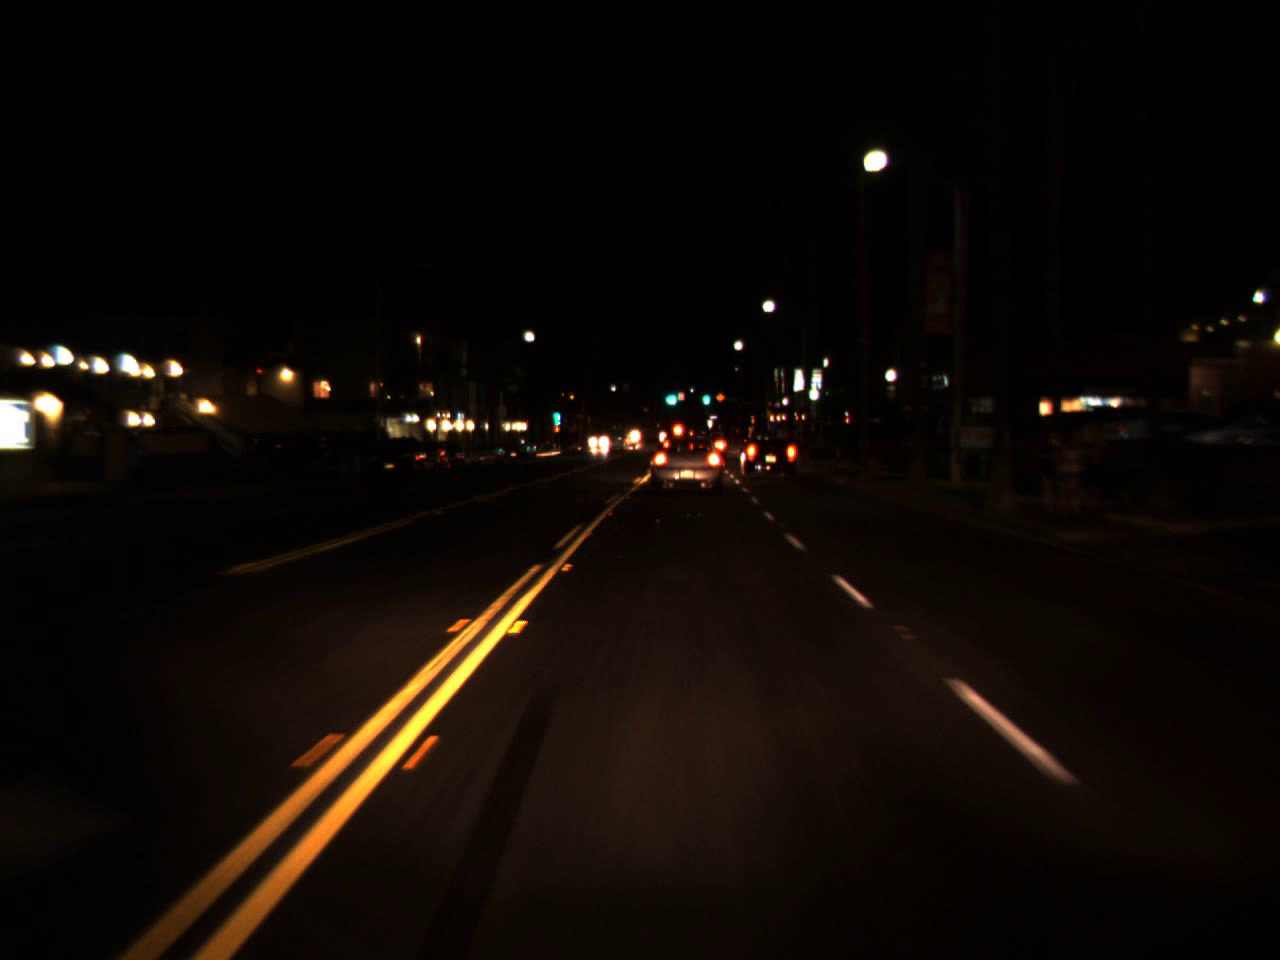go: (661, 384, 679, 405), (551, 396, 561, 429), (701, 387, 711, 405)
